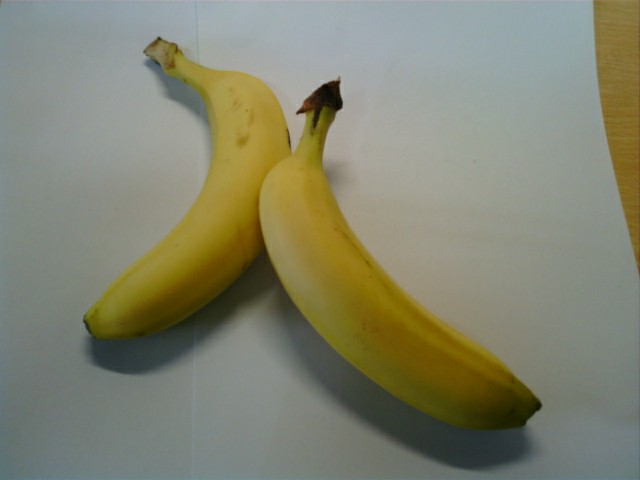fresh_banana: (259, 141, 541, 429), (78, 67, 290, 346)
